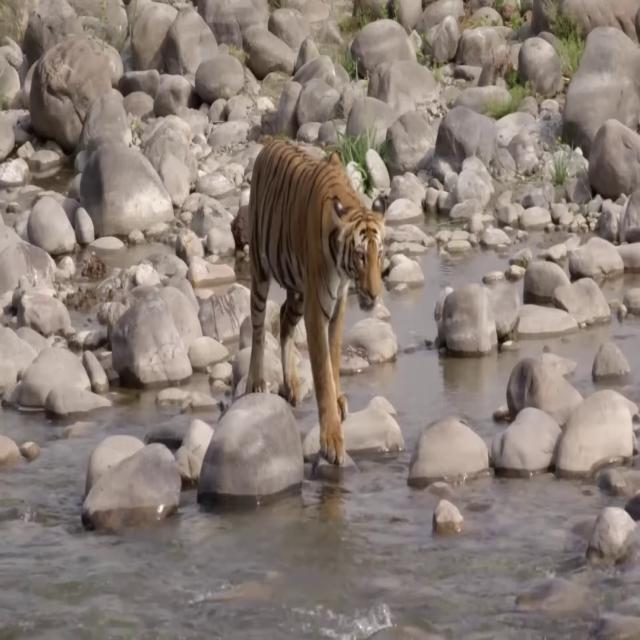tiger: (247, 138, 387, 466)
